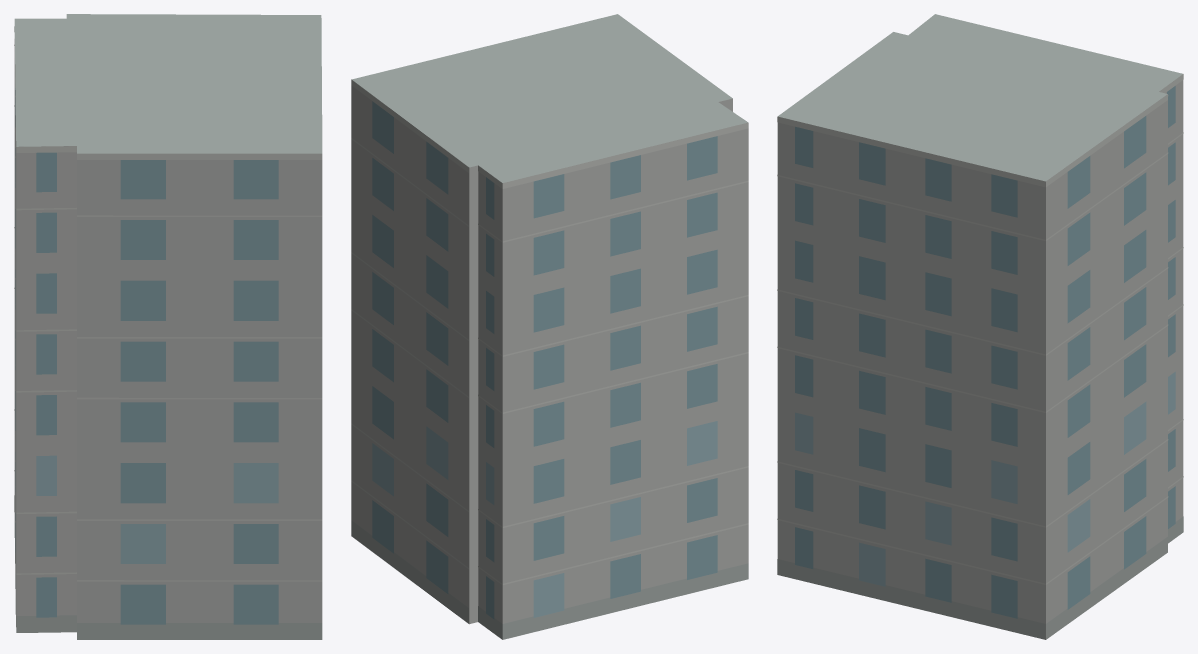
File: survey-upis-32744110.glb
3 views of the same model, side by side, from view 1: azimuth 30°, elevation 25°; view 2: azimuth 150°, elevation 25°; view 3: azimuth 270°, elevation 25° (orthographic). The views are drawn at different scales.
Parts seen in each view (by area): view 1: survey-upis-32744110.tmp; view 2: survey-upis-32744110.tmp; view 3: survey-upis-32744110.tmp.
Boxes of the visible parts, left/top/right/bottom form: survey-upis-32744110.tmp: left=14, top=14, right=322, bottom=639; survey-upis-32744110.tmp: left=351, top=14, right=748, bottom=639; survey-upis-32744110.tmp: left=777, top=14, right=1183, bottom=639.
Bounding box in the file's own units: 14.83 × 18.9 × 15.19.
